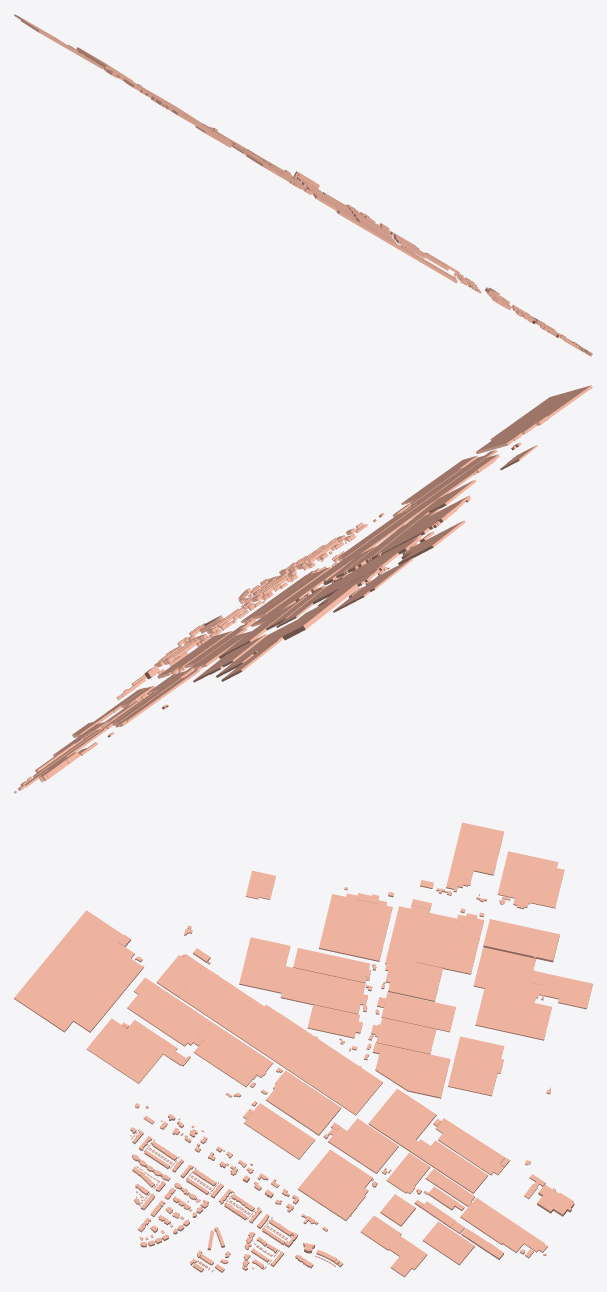
The picture shows the model from 3 angles, top to bottom: view 1: azimuth 30°, elevation 25°; view 2: azimuth 150°, elevation 25°; view 3: azimuth 270°, elevation 25°; orthographic projection. The views are drawn at different scales.
Bounding box in the file's own units: 1166 × 886 × 1635.
